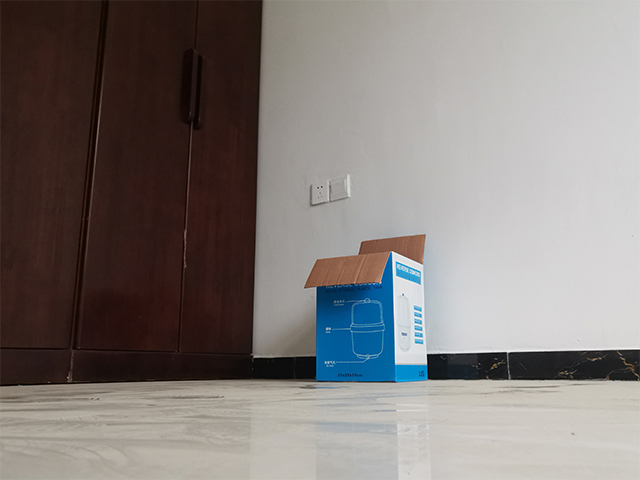cabinet: (1, 1, 267, 388)
